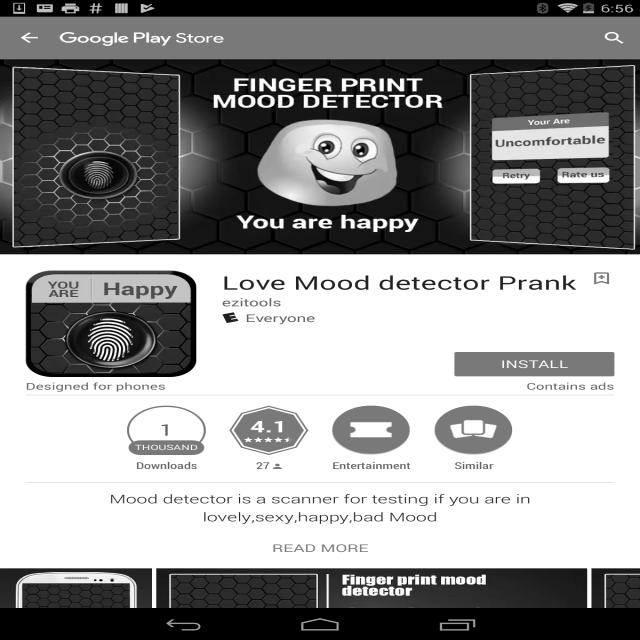Button: (222, 406, 316, 472), (324, 406, 418, 472), (426, 406, 520, 472), (454, 352, 614, 376)
ImageButton: (0, 17, 60, 59)
ImageView: (0, 59, 640, 254), (156, 568, 587, 640), (26, 270, 196, 377), (0, 568, 152, 640), (332, 406, 411, 455), (434, 406, 513, 455), (591, 568, 640, 640), (60, 30, 224, 46), (589, 270, 614, 286), (222, 312, 239, 323), (273, 464, 282, 469)
TextView: (0, 490, 640, 537), (0, 537, 640, 555), (222, 270, 589, 295), (25, 380, 166, 392), (589, 22, 640, 54), (324, 455, 418, 472), (426, 455, 520, 472), (120, 455, 213, 472), (526, 380, 614, 392), (245, 311, 316, 325), (250, 415, 288, 437), (222, 295, 281, 309), (133, 443, 200, 452), (159, 420, 173, 440), (256, 455, 270, 472)
